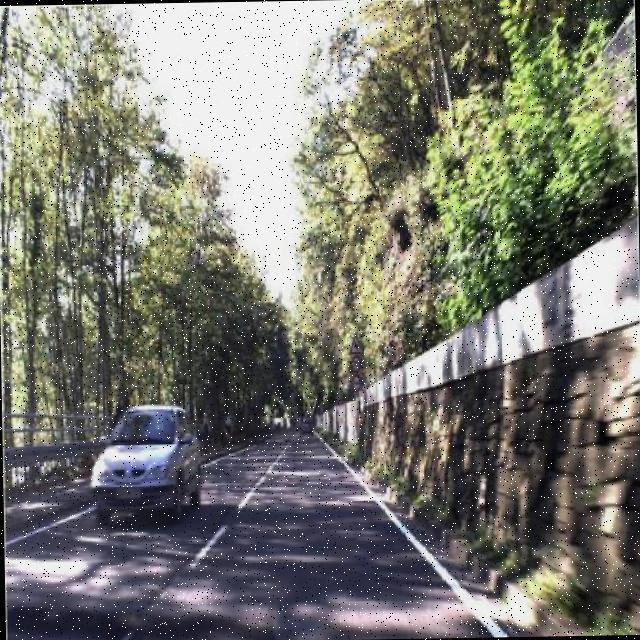Ograniczenie predkosci do 70: (349, 354, 364, 372)
